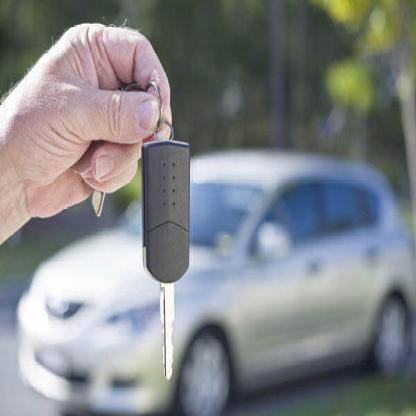keys: (136, 132, 197, 388)
